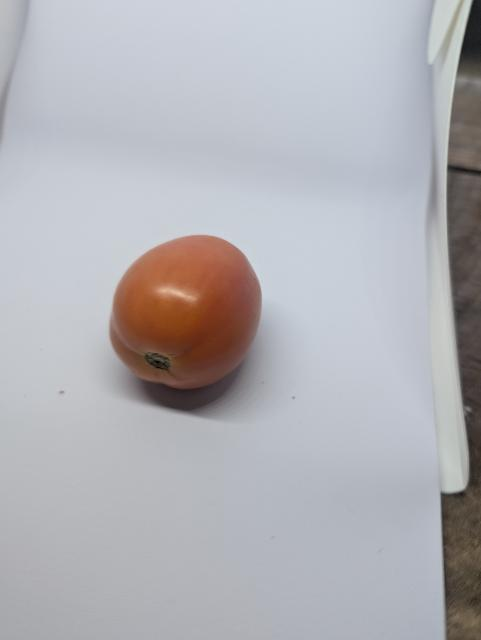red: (96, 219, 281, 393)
